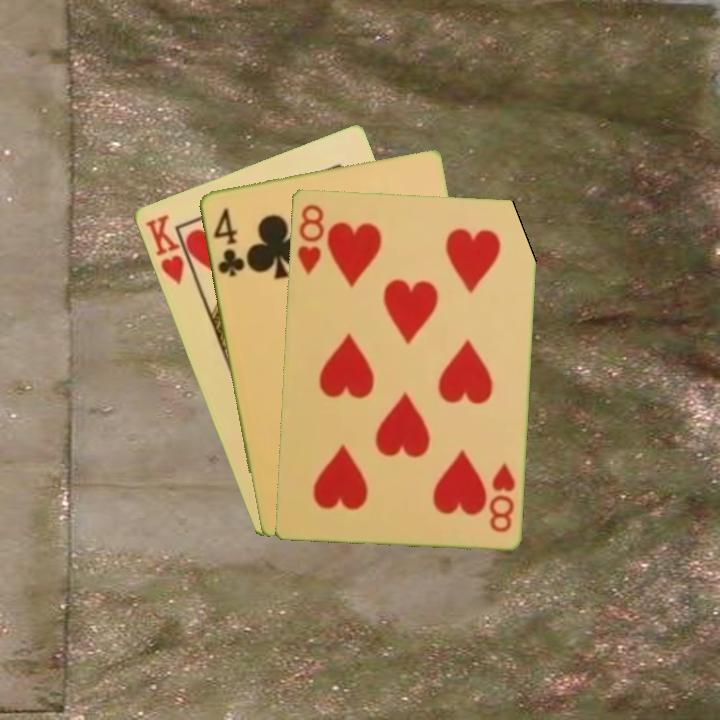4c: (209, 204, 247, 279)
8h: (293, 201, 327, 277), (485, 458, 518, 535)
Kh: (141, 210, 198, 288)
